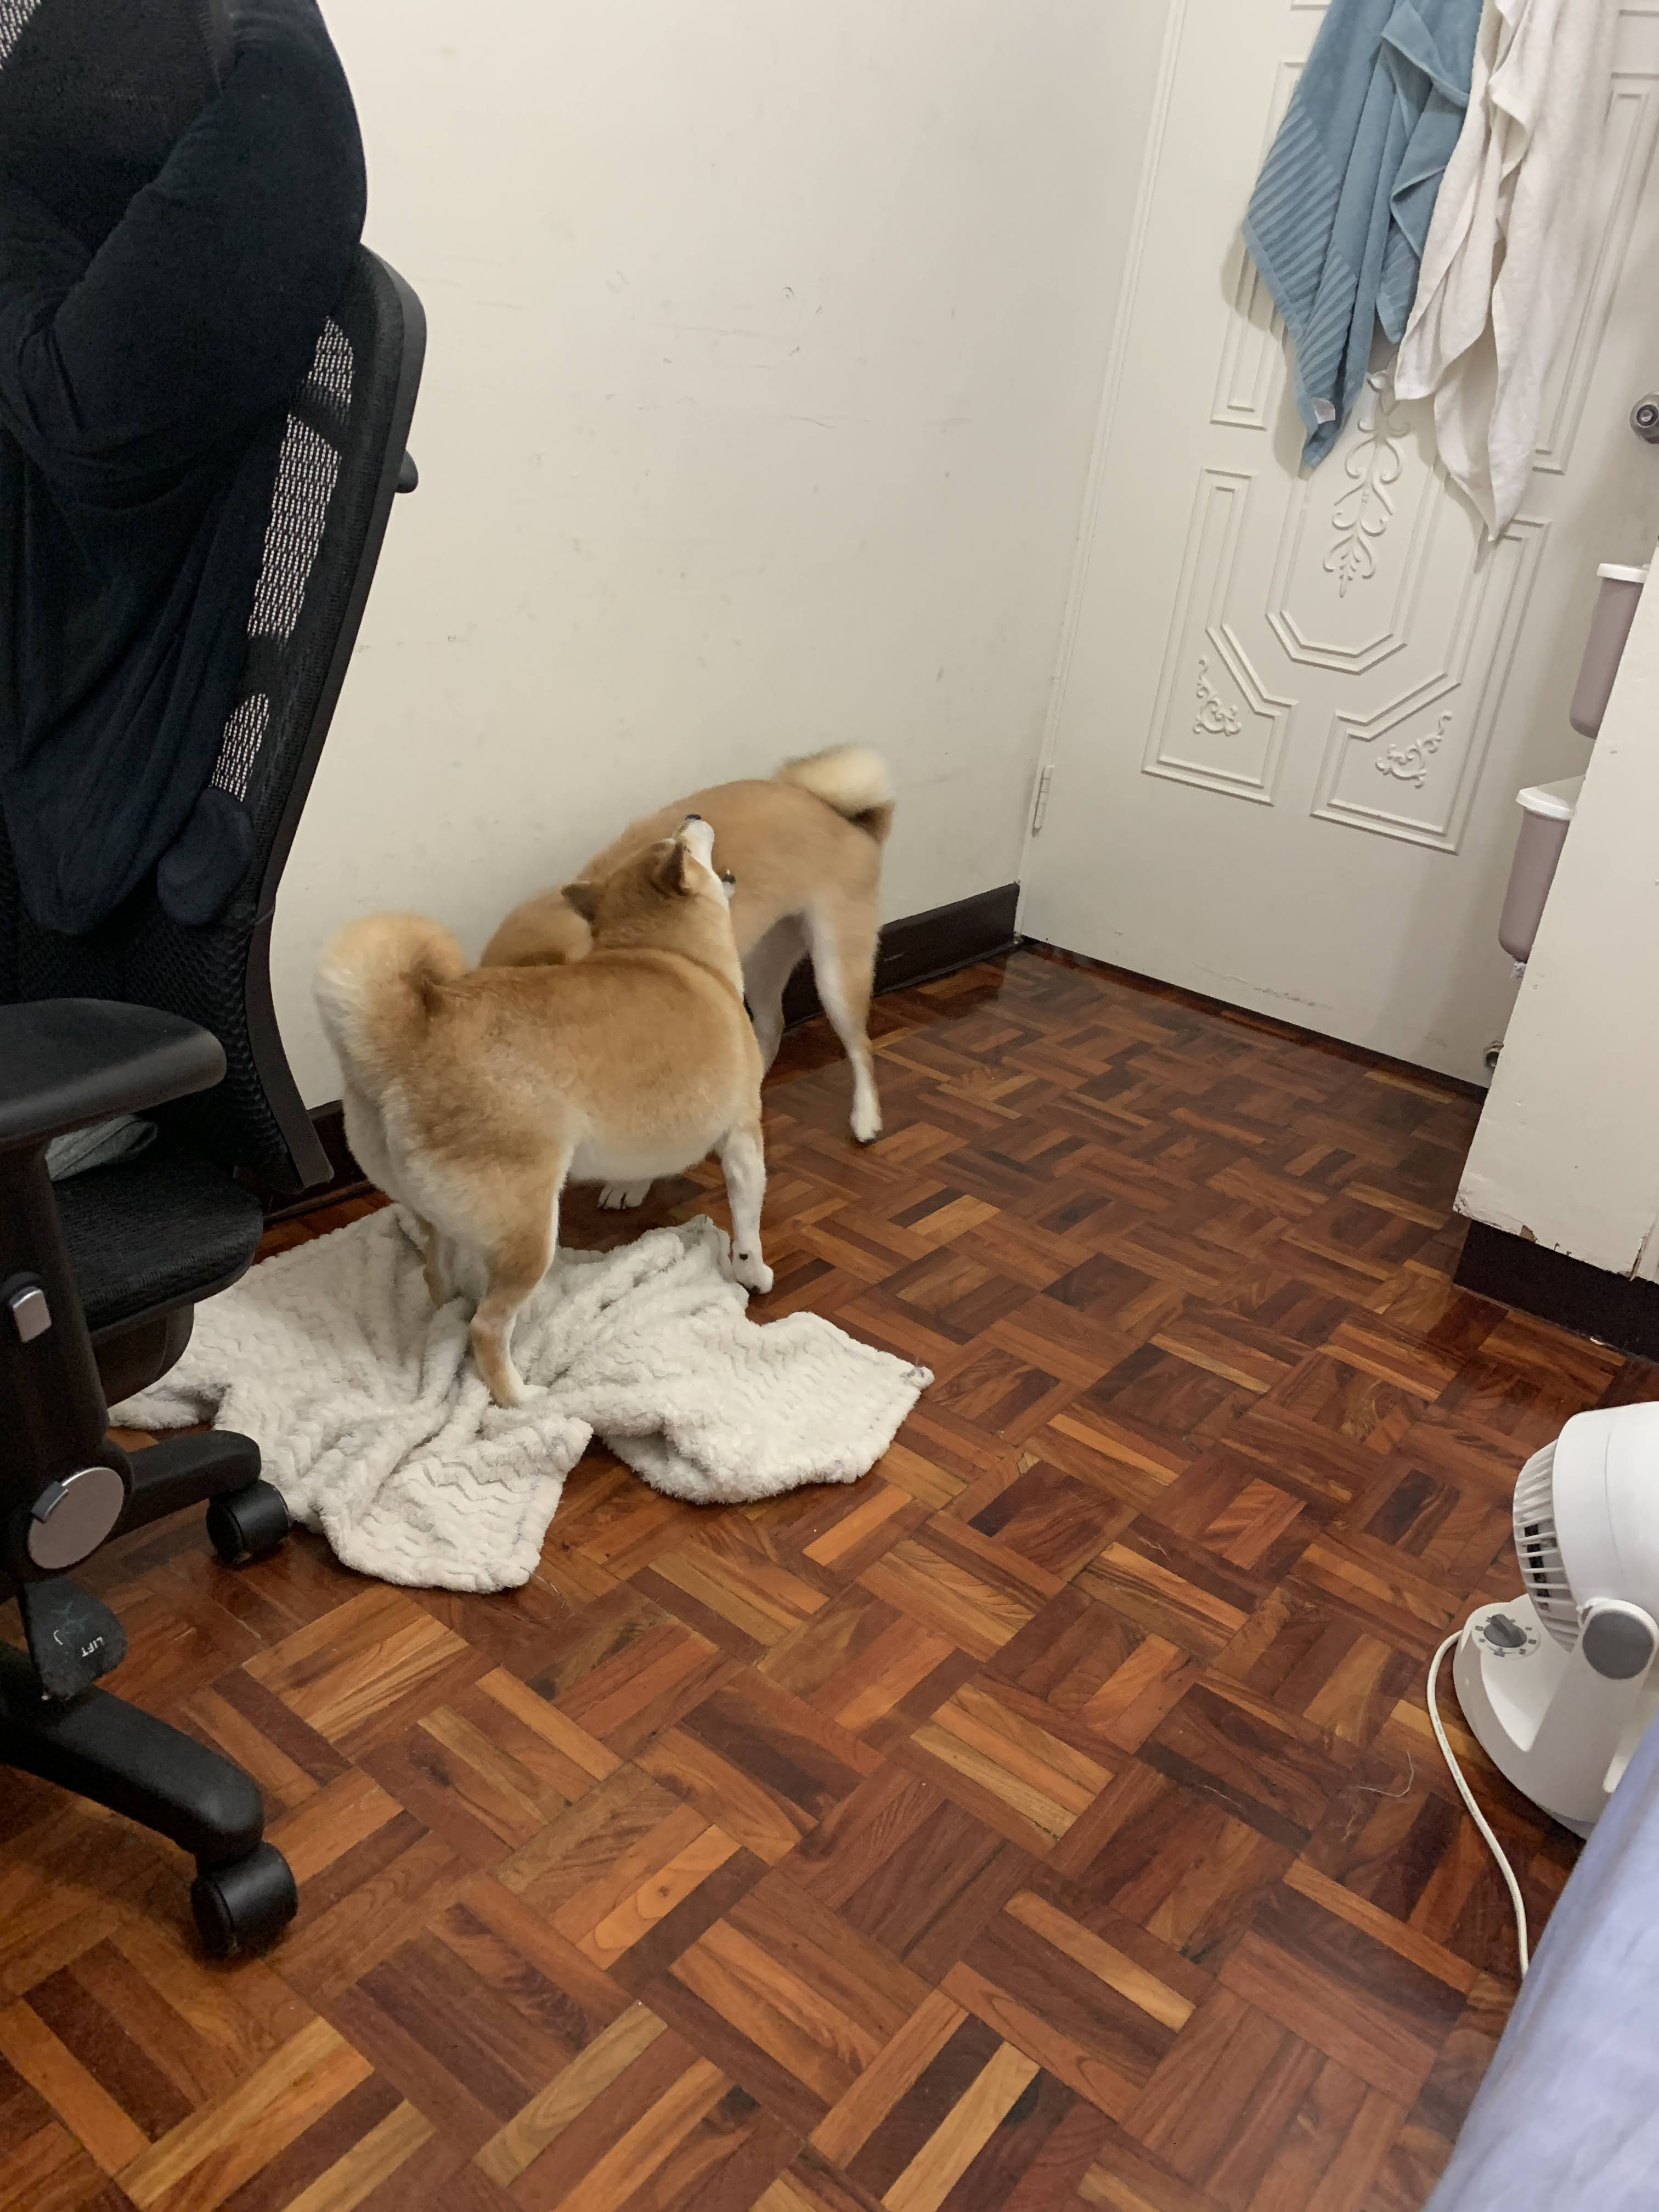Quarrel: (324, 752, 964, 1400)
